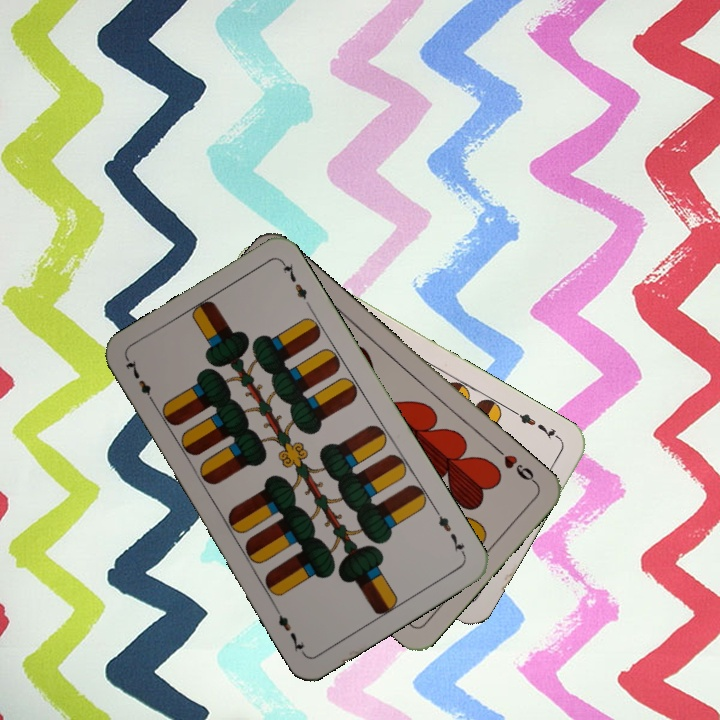E7: (121, 355, 159, 409), (509, 406, 563, 443), (431, 505, 468, 559)
H9: (492, 443, 540, 487)
